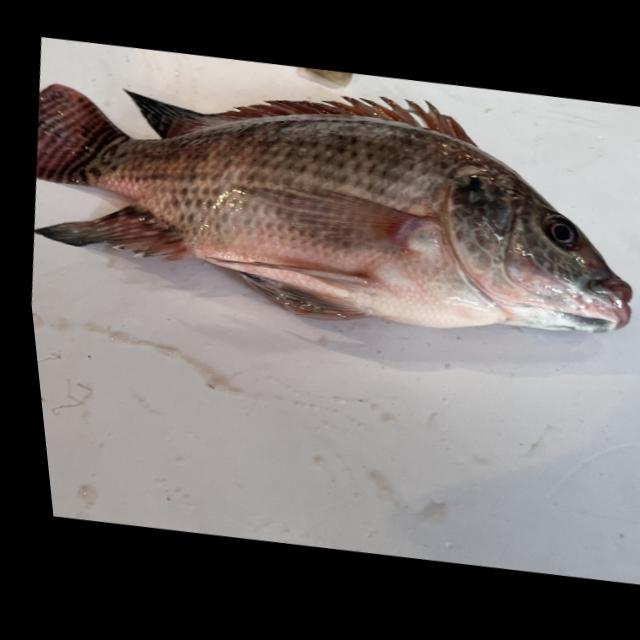Tilapia: (8, 41, 640, 371)
